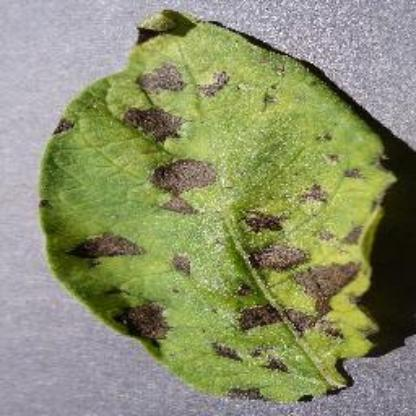Early-Blight: (37, 4, 408, 404)
